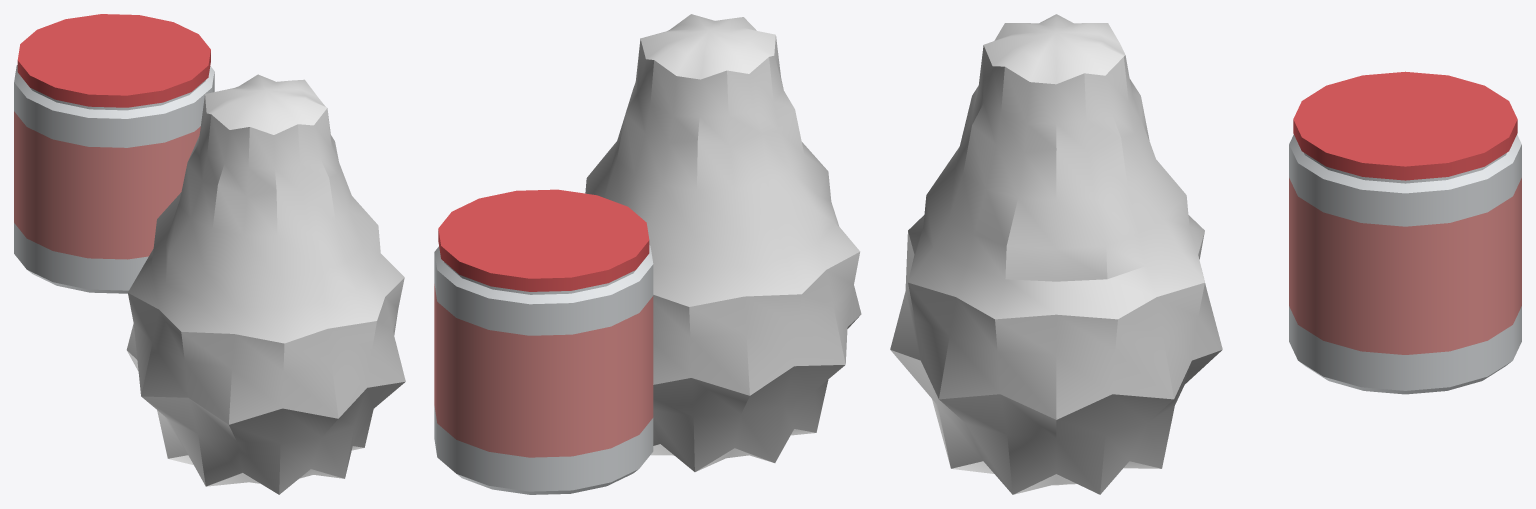
Rendered from Seed.fbx.
3 renders of one model, left to right at view 1: azimuth 30°, elevation 25°; view 2: azimuth 150°, elevation 25°; view 3: azimuth 270°, elevation 25°, orthographic. The views are drawn at different scales.
Parts seen in each view (by area): view 1: Sphere, Cylinder; view 2: Sphere, Cylinder; view 3: Sphere, Cylinder.
Part boxes in pixels (left/top/right/bottom): Sphere: left=126, top=74, right=405, bottom=494; Cylinder: left=14, top=14, right=214, bottom=293; Sphere: left=585, top=14, right=861, bottom=471; Cylinder: left=434, top=189, right=653, bottom=494; Sphere: left=890, top=14, right=1222, bottom=494; Cylinder: left=1289, top=71, right=1521, bottom=394.
Bounding box in the file's own units: 286 × 419 × 543.
